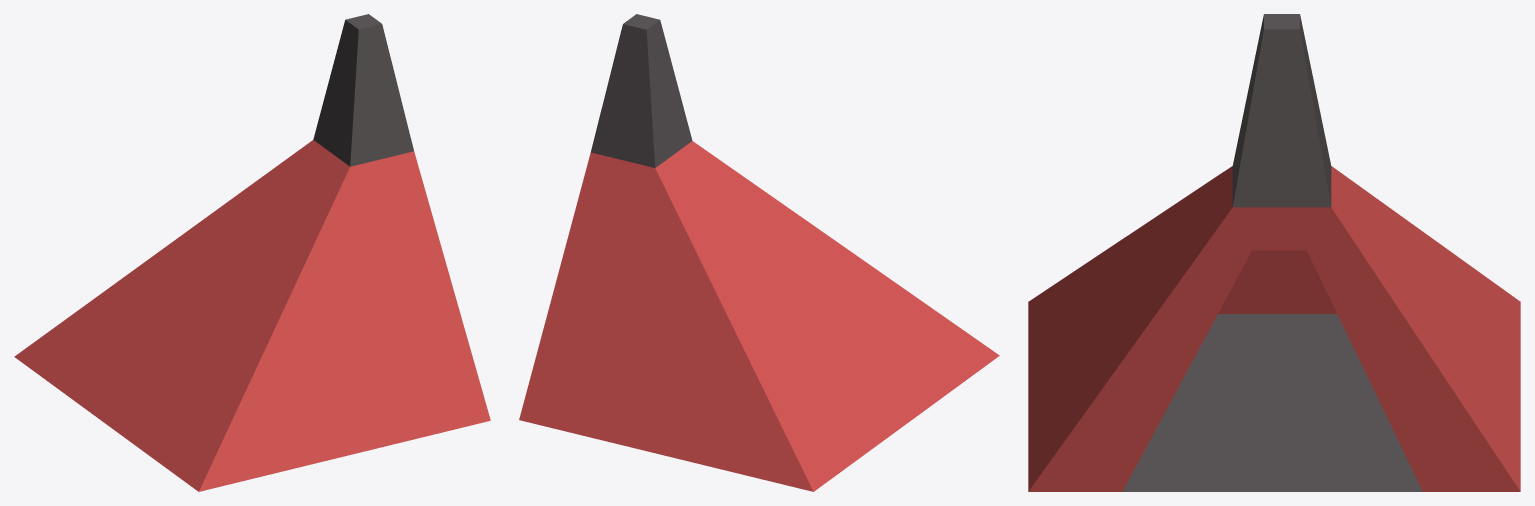
Rendered from red_cabin.fbx.
The picture shows the model from 3 angles, left to right: view 1: azimuth 30°, elevation 25°; view 2: azimuth 150°, elevation 25°; view 3: azimuth 270°, elevation 25°; orthographic projection. The views are drawn at different scales.
Parts seen in each view (by area): view 1: Cube; view 2: Cube; view 3: Cube.
Boxes of the visible parts, <box> form: Cube: <box>14,14,490,491</box>; Cube: <box>519,14,999,491</box>; Cube: <box>1028,14,1520,491</box>.
Bounding box in the file's own units: 913 × 1008 × 1000.
